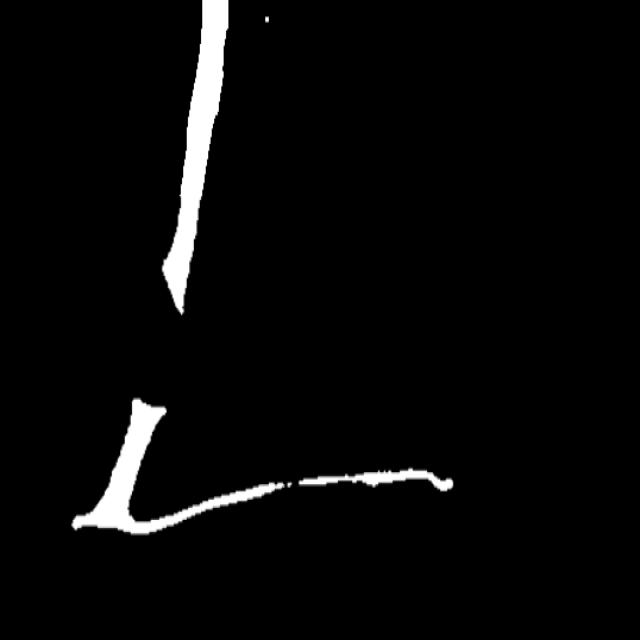inf: (276, 474, 313, 496)
